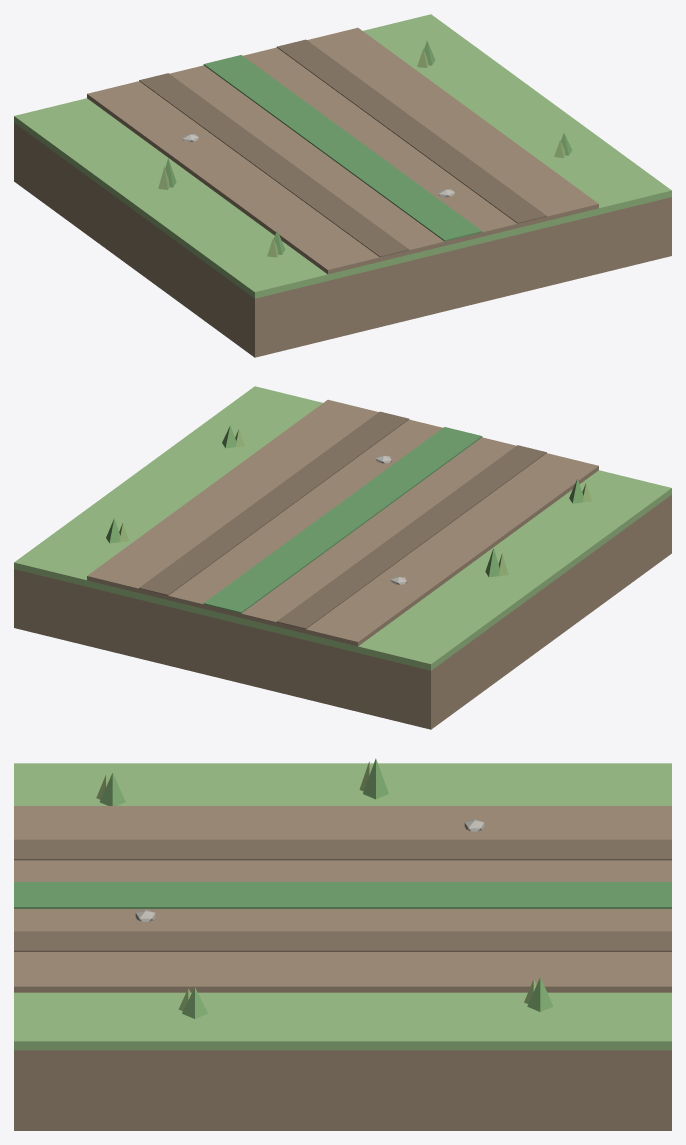
File: ruas__terra_reta.glb
The picture shows the model from 3 angles, top to bottom: view 1: azimuth 30°, elevation 25°; view 2: azimuth 150°, elevation 25°; view 3: azimuth 270°, elevation 25°; orthographic projection. The views are drawn at different scales.
Parts seen in each view (by area): view 1: ruas__terra_reta; view 2: ruas__terra_reta; view 3: ruas__terra_reta.
Boxes of the visible parts, x1,y1,x2,y2 form: ruas__terra_reta: (14, 14, 671, 357); ruas__terra_reta: (14, 386, 671, 729); ruas__terra_reta: (14, 758, 671, 1130).
Bounding box in the file's own units: 2 × 0.42 × 2.
